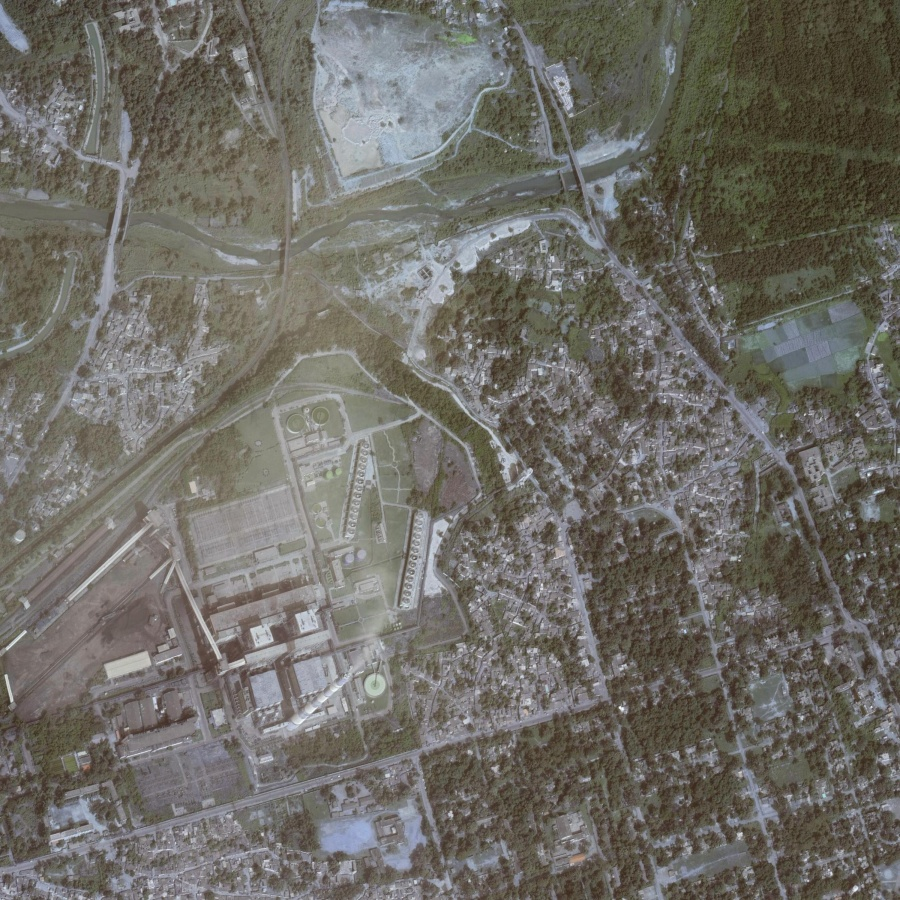PowerPlant: (1, 400, 443, 754)
